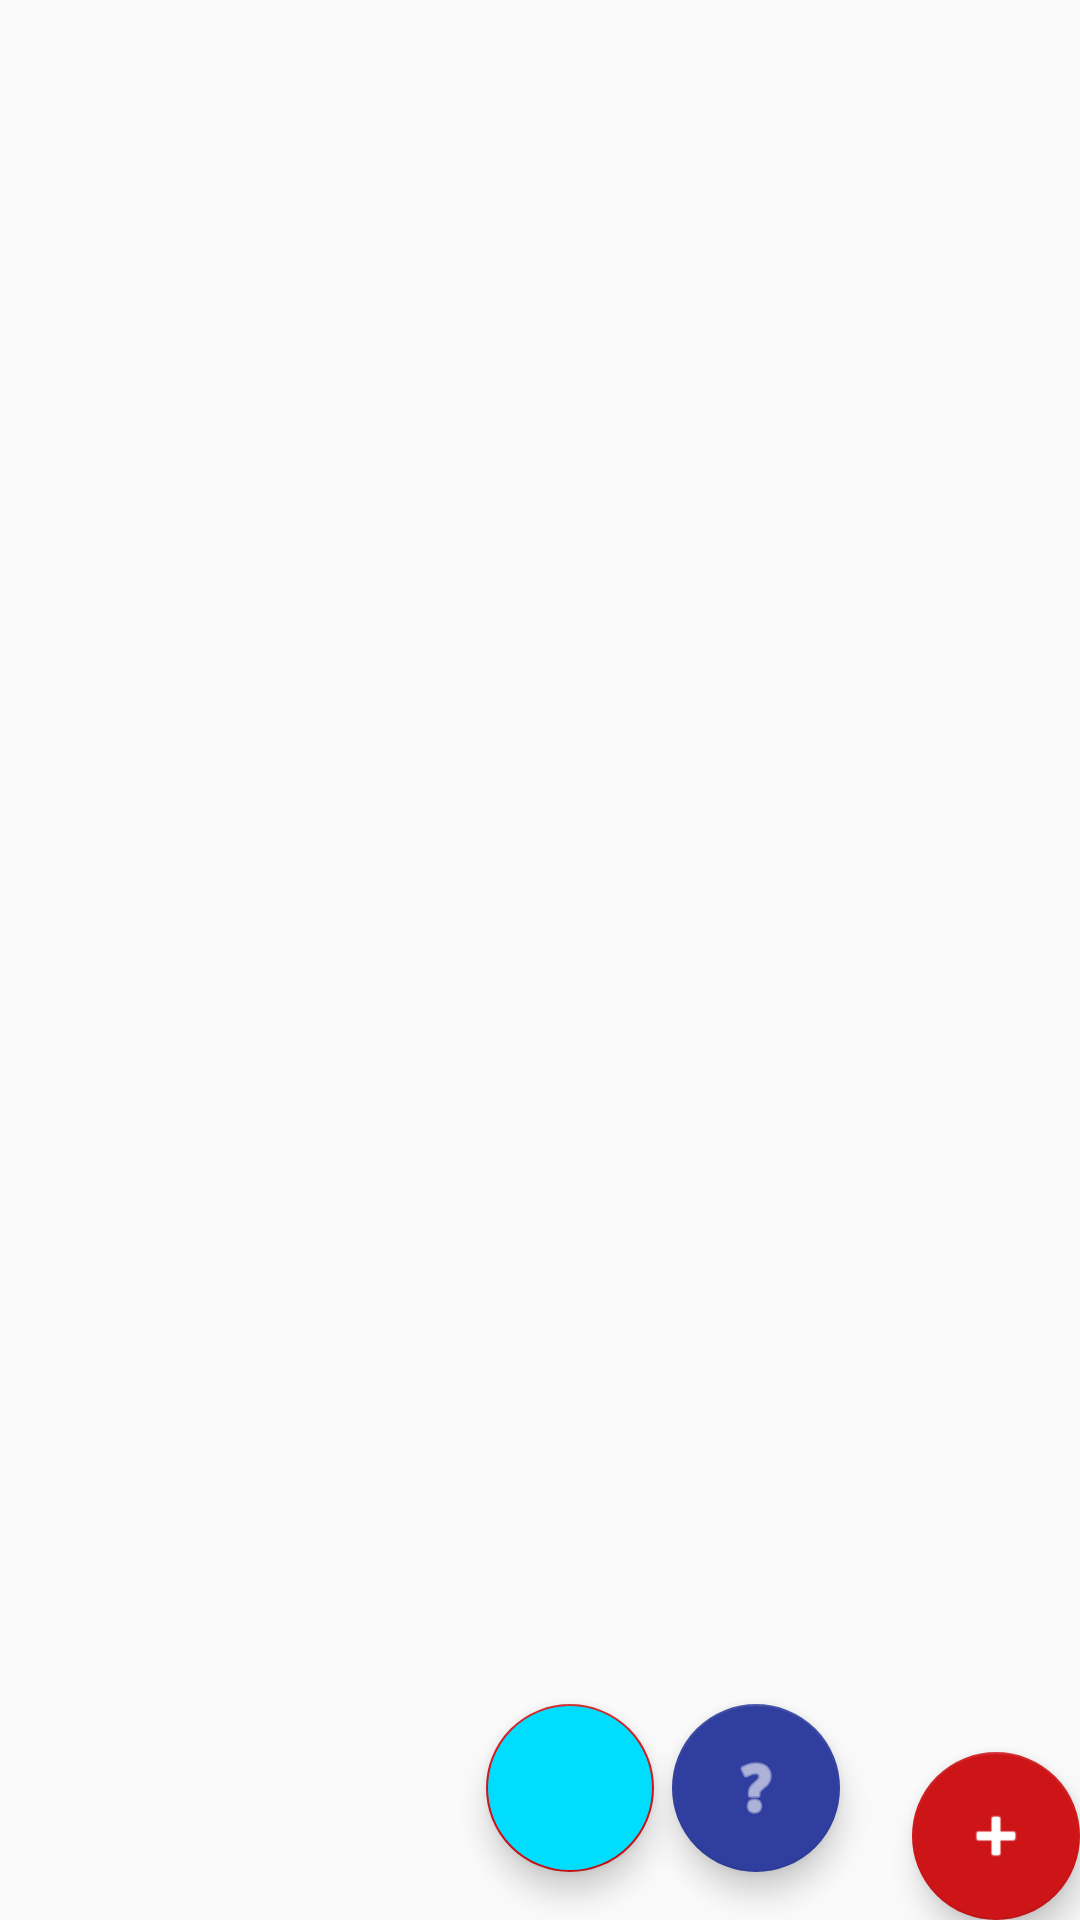

Named icons in this screenshot (1080x1920) and their bounding boxes, (x1, y1, x2, y2):
add: (912, 1752, 1080, 1920)
help: (672, 1704, 840, 1872)
